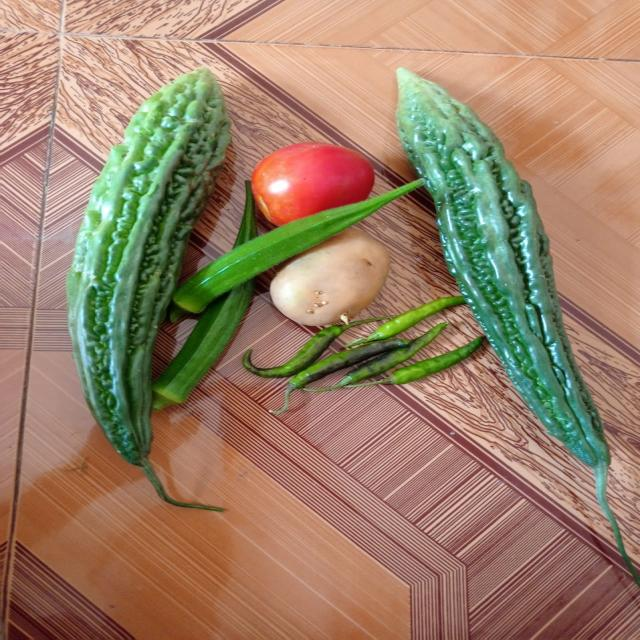Organik: (398, 70, 634, 468), (58, 79, 215, 464), (261, 230, 391, 331), (152, 293, 250, 412), (261, 140, 377, 220)
